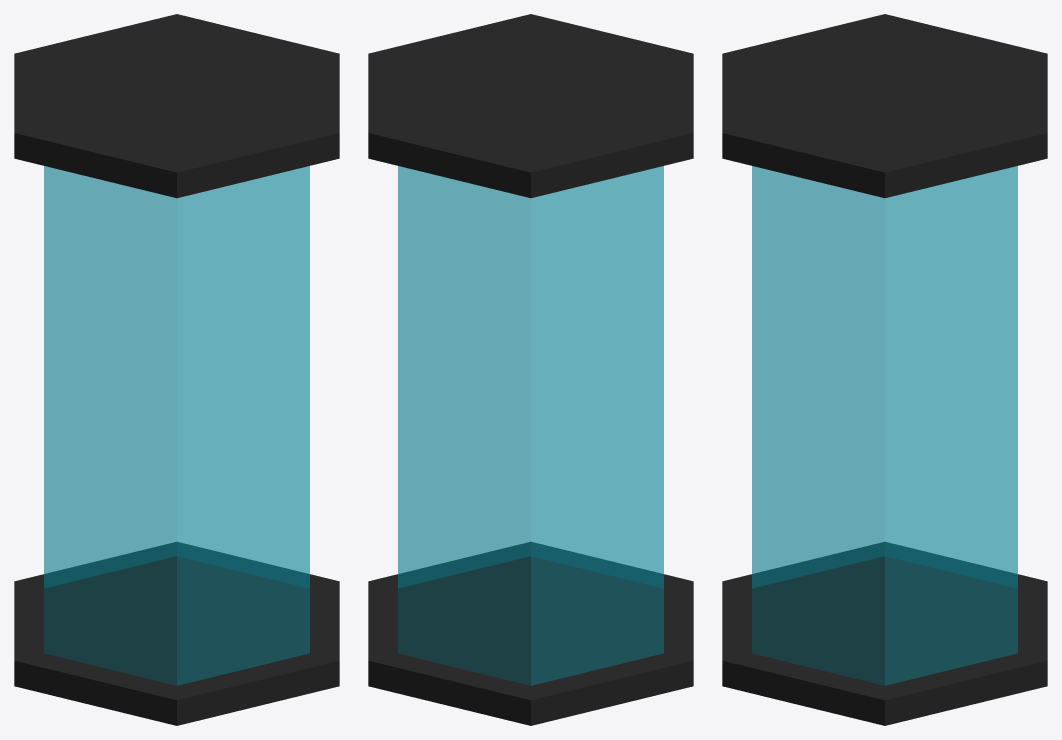
3 renders of one model, left to right at view 1: azimuth 30°, elevation 25°; view 2: azimuth 150°, elevation 25°; view 3: azimuth 270°, elevation 25°, orthographic.
Visible parts, largest first — view 1: capsuleglass, topcapsule, botcapsule; view 2: capsuleglass, topcapsule, botcapsule; view 3: capsuleglass, topcapsule, botcapsule.
Part boxes in pixels (x1=…): capsuleglass: x1=44, y1=166, x2=309, y2=685; topcapsule: x1=14, y1=14, x2=339, y2=198; botcapsule: x1=14, y1=542, x2=339, y2=725; capsuleglass: x1=398, y1=166, x2=663, y2=685; topcapsule: x1=368, y1=14, x2=693, y2=198; botcapsule: x1=368, y1=542, x2=693, y2=725; capsuleglass: x1=752, y1=166, x2=1017, y2=685; topcapsule: x1=722, y1=14, x2=1047, y2=198; botcapsule: x1=722, y1=542, x2=1047, y2=725.
Size of the model in its own units: 2 by 3.25 by 1.73.
